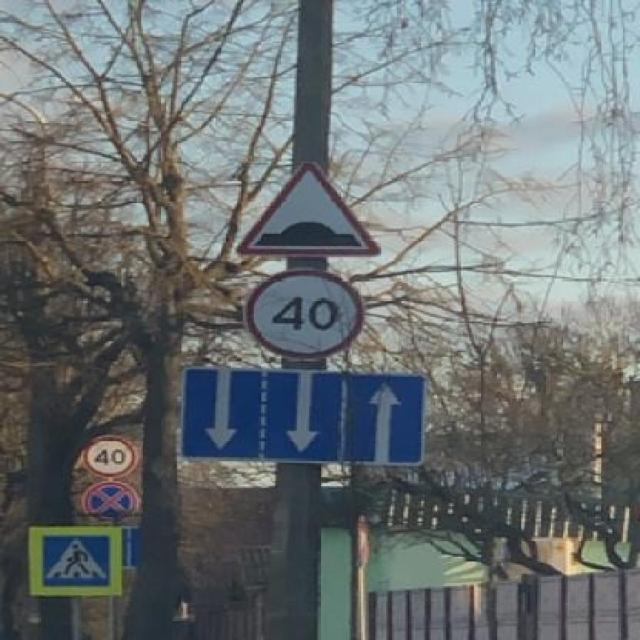forb_speed_over_40: (253, 269, 362, 357), (84, 436, 135, 476)
